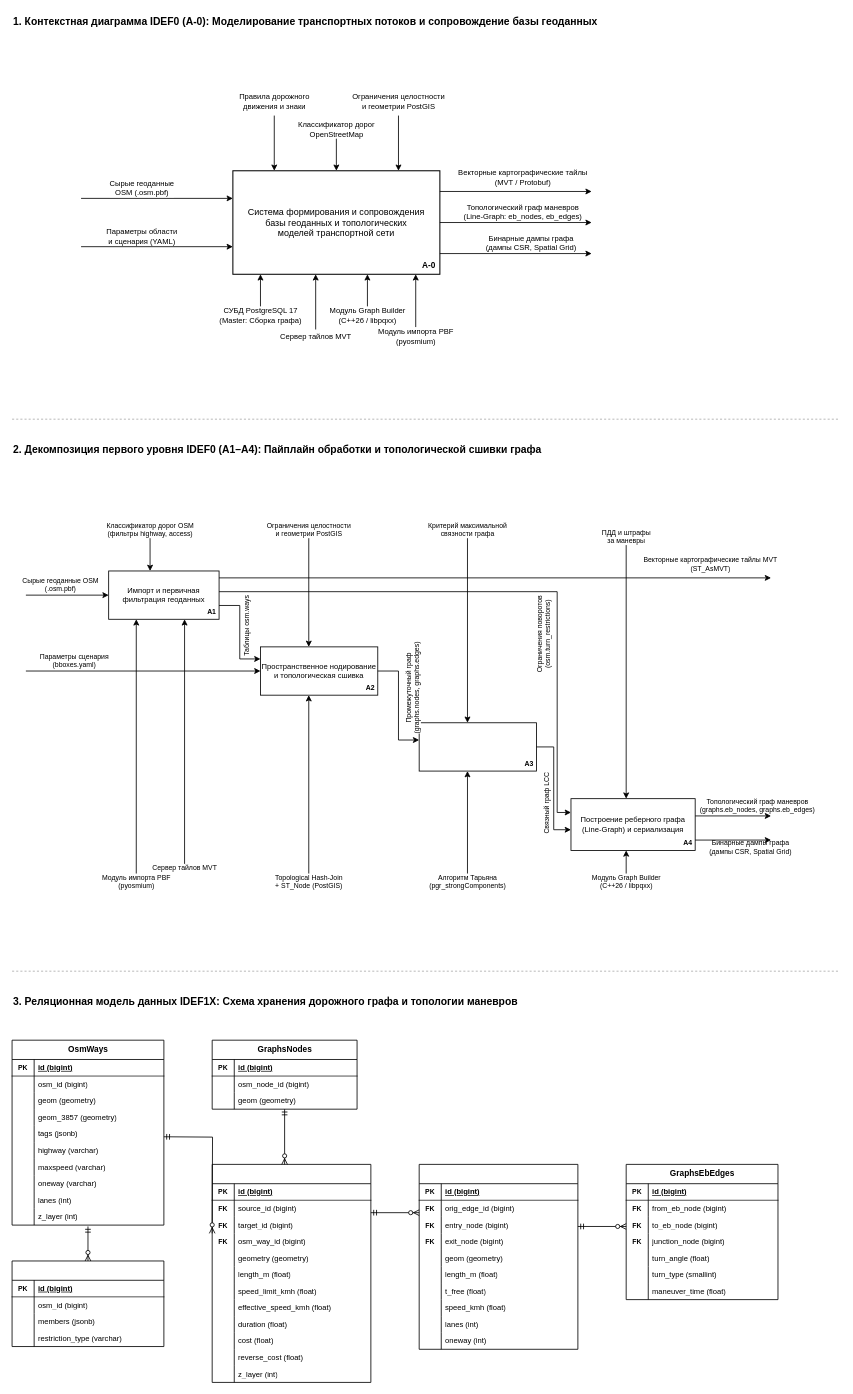
Some shapes in this 853 by 1394 pixel diagram are drawn without their labels. The shapes that lost their labels are listed below. From the top down, each one's box as (x1, y1, x2, y2) in pixels, then its label:
(418, 722, 537, 771): Анализ связности и изоляция главной компоненты
(211, 1164, 371, 1382): GraphsEdges
(418, 1164, 578, 1349): GraphsEbNodes
(11, 1260, 164, 1347): OsmTurnRestrictions
